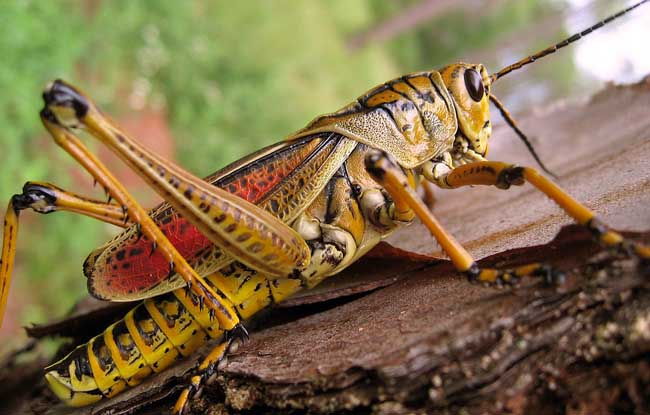huangchong: (21, 56, 568, 395)
